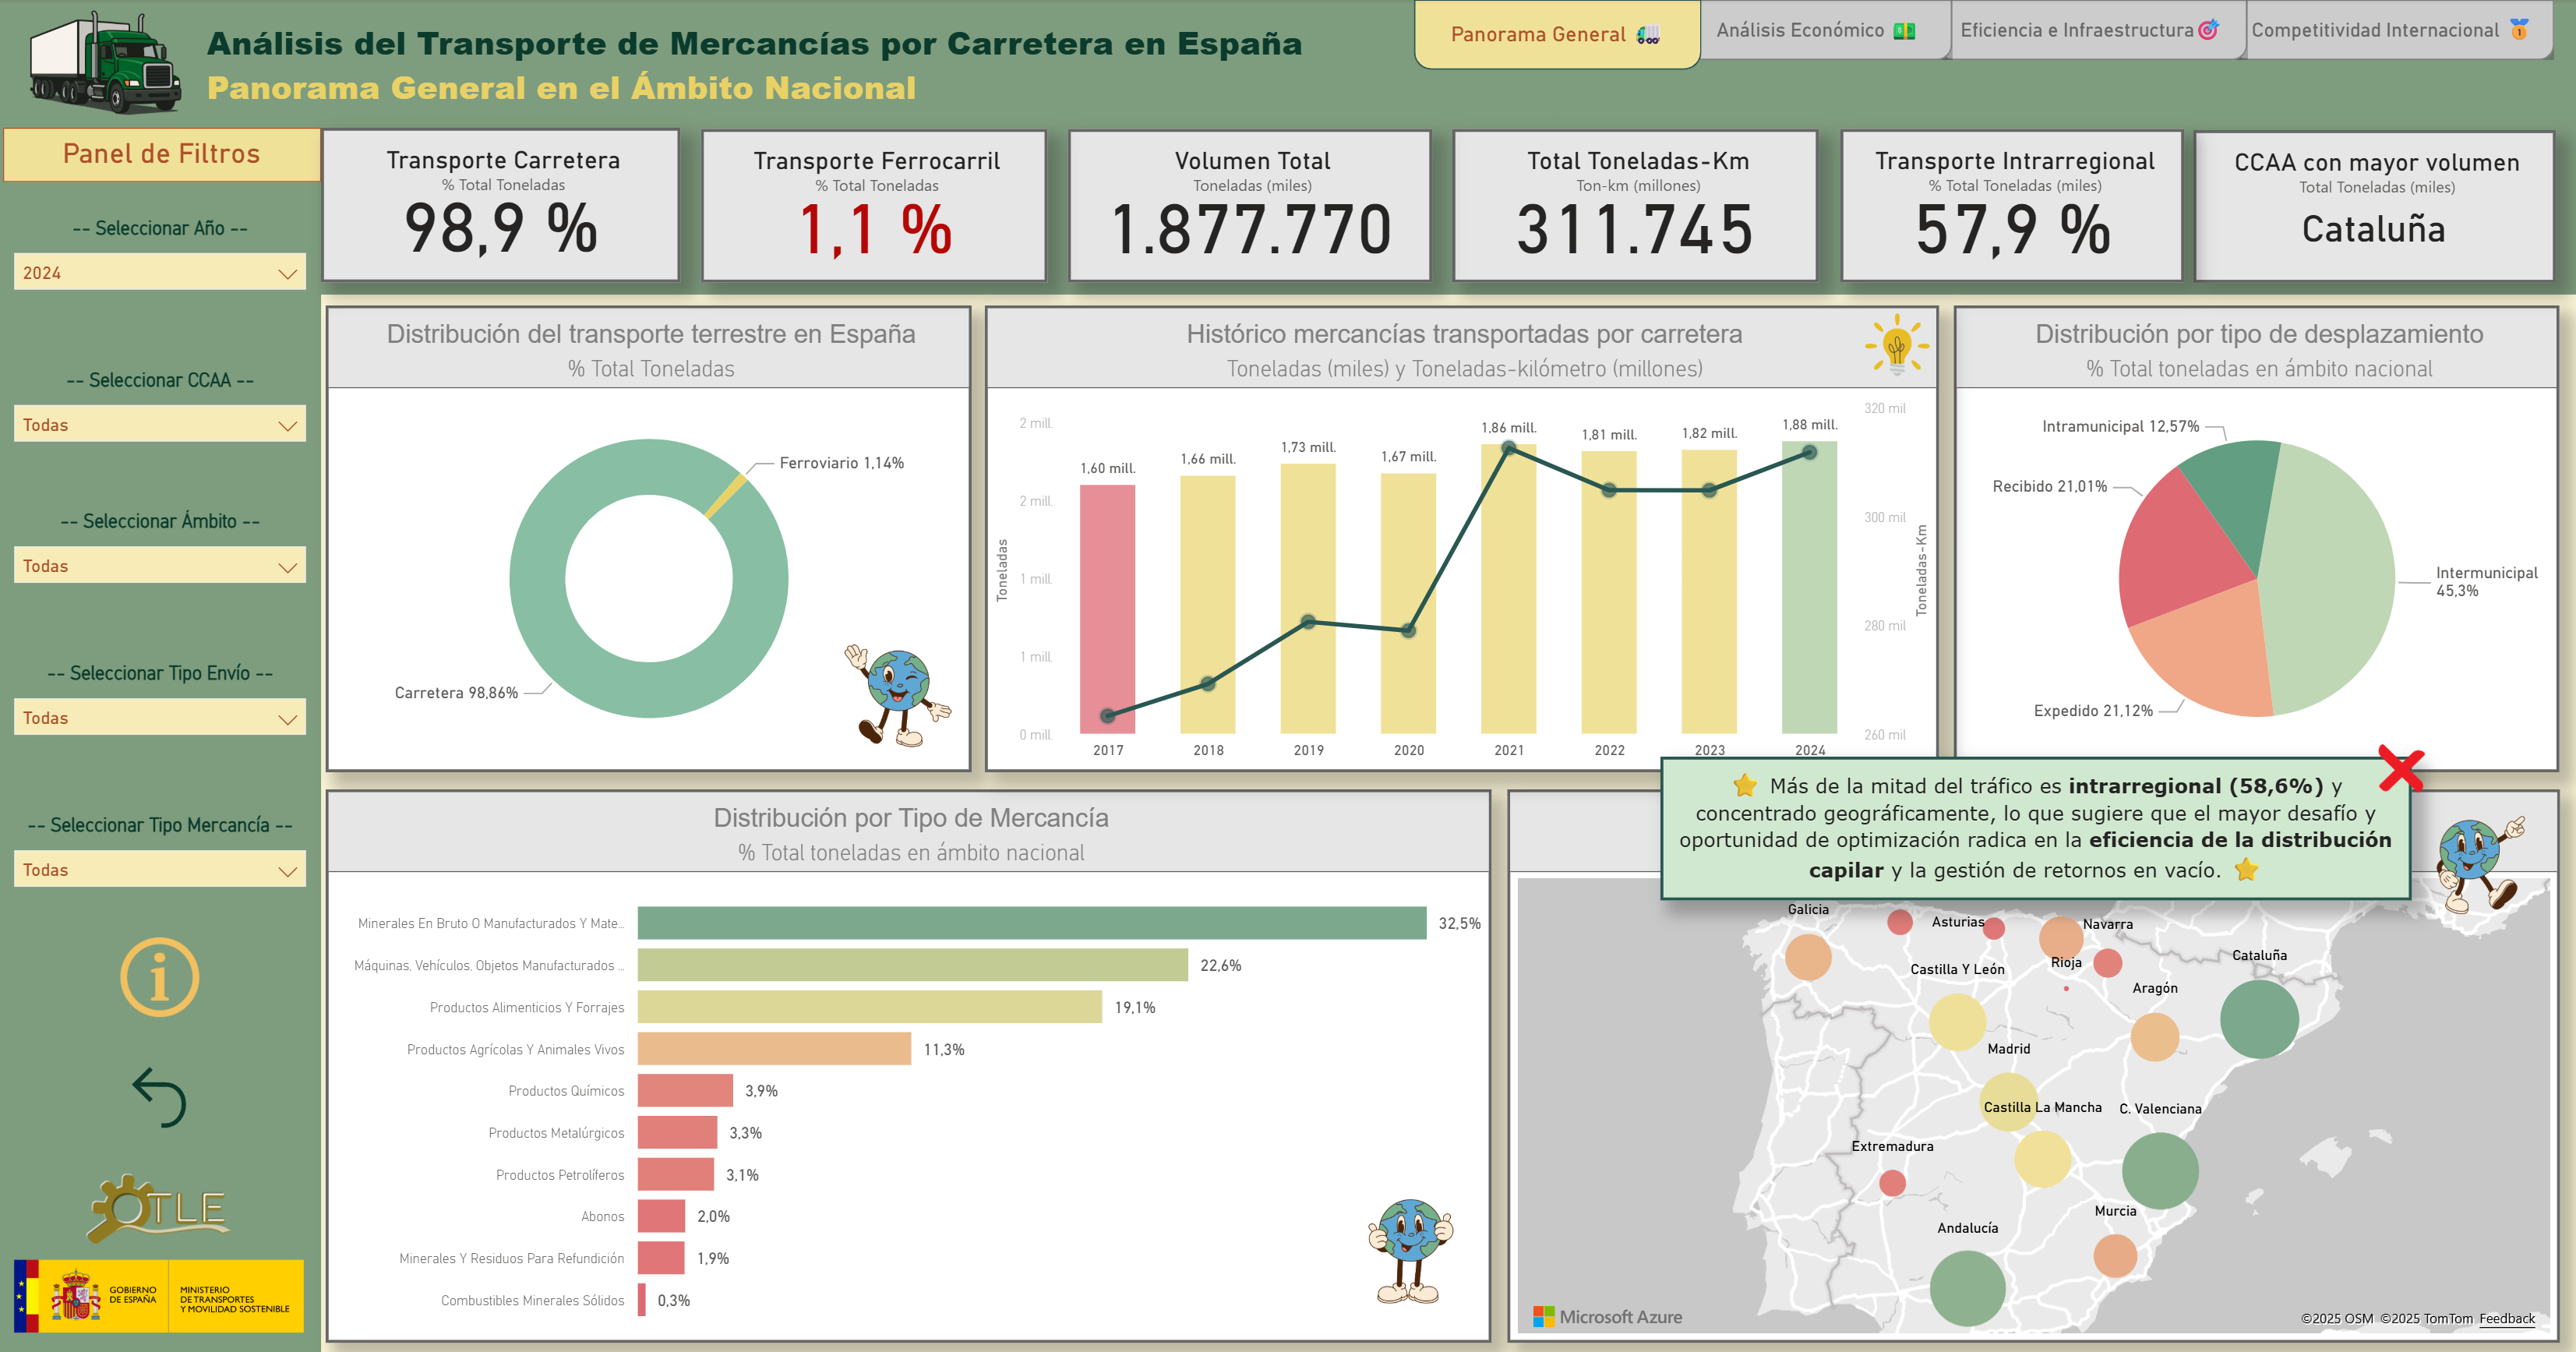

Layout of this report page (visuals, bound fields, positions):
{"tool":"powerbi","page":{"name":"Panorama General","canvas":[1747,920],"ordinal":1},"visuals":[{"type":"group","id":"g1","title":"Panel diseño","box":[0,0,1799.4,919.7],"z":0},{"type":"shape","box":[0,0,1799.4,200.2],"z":0,"group":"g1"},{"type":"lineStackedColumnComboChart","title":"Histórico mercancías transportadas por carretera","fields":{"Category":["Año Dim.Año"],"Y2":["Medidas.Total Ton-km (miles millones)"],"Y":["Medidas.Total Toneladas (miles de millones)"]},"box":[667.9,207.3,645.9,315.9],"z":0,"group":"g2"},{"type":"shape","box":[0,81.2,218.5,838.5],"z":1000,"group":"g1"},{"type":"cardVisual","title":"Total Toneladas-Km","fields":{"Data":["Medidas.Total Tone-km (millones)"]},"box":[984.6,87.9,248.2,104.2],"z":1000},{"type":"image","box":[1257.8,204.6,55.1,57.6],"z":1000,"group":"g2"},{"type":"textbox","box":[135.8,8.5,918.5,77.3],"z":2000,"group":"g1"},{"type":"cardVisual","title":"Volumen Total","fields":{"Data":["Medidas.Total Toneladas(miles)"]},"box":[724.1,88.1,246.4,104],"z":2000},{"type":"slicer","title":"-- Seleccionar Año --","fields":{"Values":["Año Dim.Año"]},"box":[0.9,146.8,217.6,63.9],"z":3000},{"type":"slicer","title":"-- Seleccionar CCAA --","fields":{"Values":["CCAA Dim.CCAA"]},"box":[0.8,250,217.6,56.3],"z":4000},{"type":"slicer","title":"-- Seleccionar Ámbito --","fields":{"Values":["Tipo Envio Dim.Ámbito"]},"box":[0.9,345.5,217.6,63.9],"z":5000},{"type":"slicer","title":"-- Seleccionar Tipo Envío --","fields":{"Values":["Tipo Envio Dim.Tipo Envío"]},"box":[0.9,448.7,217.6,63.9],"z":6000},{"type":"textbox","box":[3.2,87,215.2,36.4],"z":7000},{"type":"donutChart","title":"Distribución del transporte terrestre en España","fields":{"Y":["Medidas.Total Toneladas Modo (miles de millones)"],"Series":["C0519 Transporte Modo - Ambito.Modo Transporte"]},"box":[221.8,207.2,437.2,315.7],"z":8000},{"type":"pieChart","title":"Distribución por tipo de desplazamiento","fields":{"Category":["Dim Tipo Envio.Tipo Envío"],"Y":["Medidas.Total Toneladas (miles de millones)"]},"box":[1323.9,207.5,410.2,315.9],"z":9000},{"type":"clusteredBarChart","title":"Distribución por Tipo de Mercancía","fields":{"Category":["C0280 Tráfico Total.Tipo Mercancía"],"Y":["Medidas General.Total Toneladas (miles)"]},"box":[221.6,534.7,789.3,374.4],"z":10000},{"type":"cardVisual","title":"Transporte Carretera","fields":{"Data":["Medidas.% Ton Carretera","Medidas.% Ton Carretera"]},"box":[218.1,87.2,243.1,104.9],"z":11000},{"type":"cardVisual","title":"Transporte Ferrocarril","fields":{"Data":["Medidas.% Ton Tren"]},"box":[475.3,87.9,234.6,104.2],"z":12000},{"type":"cardVisual","title":"CCAA con mayor volumen","fields":{"Data":["Min(Dim CCAA.CCAA)"]},"box":[1486.3,88.2,245.3,103.6],"z":13000},{"type":"cardVisual","title":"Transporte Intrarregional","fields":{"Data":["Medidas General.% Ton Intrarregional"]},"box":[1247,87.9,232.8,104.2],"z":14000},{"type":"slicer","title":"-- Seleccionar Tipo Mercancía --","fields":{"Values":["C0280 Tráfico Total.Tipo Mercancía"]},"box":[0.9,551.8,217.6,63],"z":16000},{"type":"azureMap","title":"Distribución por Comunidad Autónoma","fields":{"Size":["Medidas.Total Toneladas (miles de millones)"],"Category":["Dim CCAA.CCAA"]},"box":[1021.2,534.7,712.9,374.4],"z":17000},{"type":"shape","box":[1512.6,0,218.2,41.2],"z":18000},{"type":"image","box":[4,846.7,208.9,62.5],"z":19000},{"type":"image","box":[3.6,789.6,208.6,57.6],"z":20000},{"type":"shape","box":[1313.1,0,209.8,41.2],"z":21000},{"type":"shape","box":[1140.7,0,181.7,41.2],"z":22000},{"type":"actionButton","box":[82.4,715.5,53.4,56.2],"z":23000},{"type":"shape","box":[958.1,0,194.8,47.8],"z":24000},{"type":"image","box":[4,2.4,136.9,80.7],"z":25000},{"type":"image","box":[76.8,629.4,64.6,66.5],"z":26000},{"type":"image","box":[567.7,430.9,83,81.1],"z":27000},{"type":"image","box":[921.9,804.7,68.8,83.9],"z":28000},{"type":"image","box":[1645.2,545.5,71,83.6],"z":29000},{"type":"group","id":"g2","title":"Viz 1","box":[667.9,204.6,645.9,318.6],"z":30000}]}

Visuals, with their boxes in screenshot pixels (x1, y1, x2, y2), scaled from the page's 1747x920 canvas onto the 2576x1352 screenshot:
"Panel diseño" group: crop(0, 0, 2575, 1351)
shape: crop(0, 0, 2575, 295)
"Histórico mercancías transportadas por carretera" lineStackedColumnComboChart: crop(985, 305, 1937, 769)
shape: crop(0, 119, 322, 1351)
"Total Toneladas-Km" cardVisual: crop(1452, 129, 1818, 282)
image: crop(1854, 301, 1936, 385)
textbox: crop(200, 12, 1554, 126)
"Volumen Total" cardVisual: crop(1067, 129, 1431, 282)
"-- Seleccionar Año --" slicer: crop(2, 216, 322, 309)
"-- Seleccionar CCAA --" slicer: crop(2, 367, 322, 450)
"-- Seleccionar Ámbito --" slicer: crop(2, 508, 322, 602)
"-- Seleccionar Tipo Envío --" slicer: crop(2, 659, 322, 754)
textbox: crop(5, 128, 322, 182)
"Distribución del transporte terrestre en España" donutChart: crop(327, 305, 972, 768)
"Distribución por tipo de desplazamiento" pieChart: crop(1952, 305, 2557, 769)
"Distribución por Tipo de Mercancía" clusteredBarChart: crop(326, 785, 1491, 1336)
"Transporte Carretera" cardVisual: crop(322, 128, 680, 282)
"Transporte Ferrocarril" cardVisual: crop(700, 129, 1046, 282)
"CCAA con mayor volumen" cardVisual: crop(2192, 129, 2553, 282)
"Transporte Intrarregional" cardVisual: crop(1839, 129, 2182, 282)
"-- Seleccionar Tipo Mercancía --" slicer: crop(2, 811, 322, 903)
"Distribución por Comunidad Autónoma" azureMap: crop(1506, 785, 2557, 1336)
shape: crop(2230, 0, 2552, 61)
image: crop(6, 1244, 314, 1336)
image: crop(5, 1160, 313, 1245)
shape: crop(1936, 0, 2246, 61)
shape: crop(1682, 0, 1950, 61)
actionButton: crop(122, 1051, 200, 1134)
shape: crop(1413, 0, 1700, 70)
image: crop(6, 4, 208, 122)
image: crop(113, 925, 209, 1022)
image: crop(837, 634, 959, 753)
image: crop(1360, 1183, 1461, 1306)
image: crop(2426, 802, 2531, 924)
"Viz 1" group: crop(985, 301, 1937, 769)
